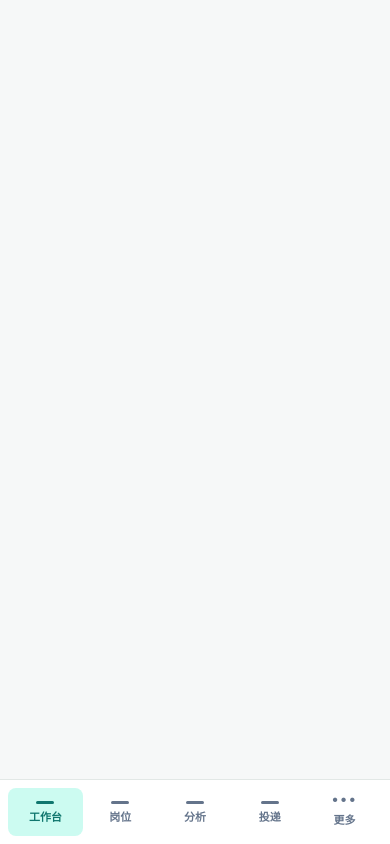
MobileBottomNav › keeps core stages in the bar and reveals remaining journey stages from 更多
Check: the number of links with class "mobile-bottom-link" is 4, box [8,788,83,836]; [109,800,131,824]; [184,800,206,824]; [259,800,281,824]
Check: the text "简历中心" is not shown
What coordinates should you click on to do the following:
click the button with aria-label "更多求职旅程入口"
I would click on:
 (345, 812)
Its box is [307,788,382,836].
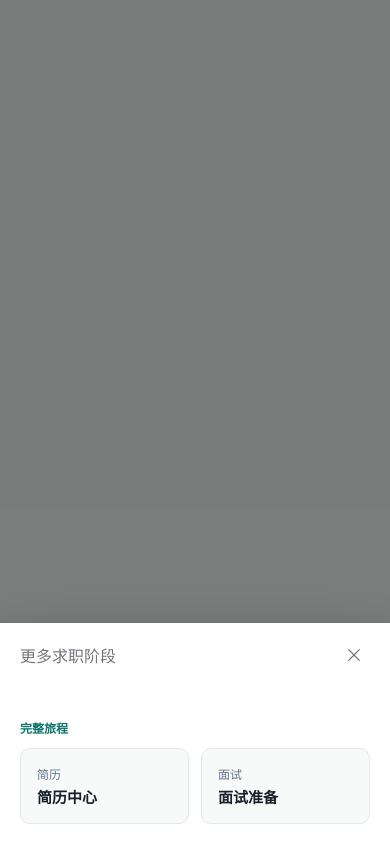
Check: the dialog shows "简历中心", box [20,748,189,824]
